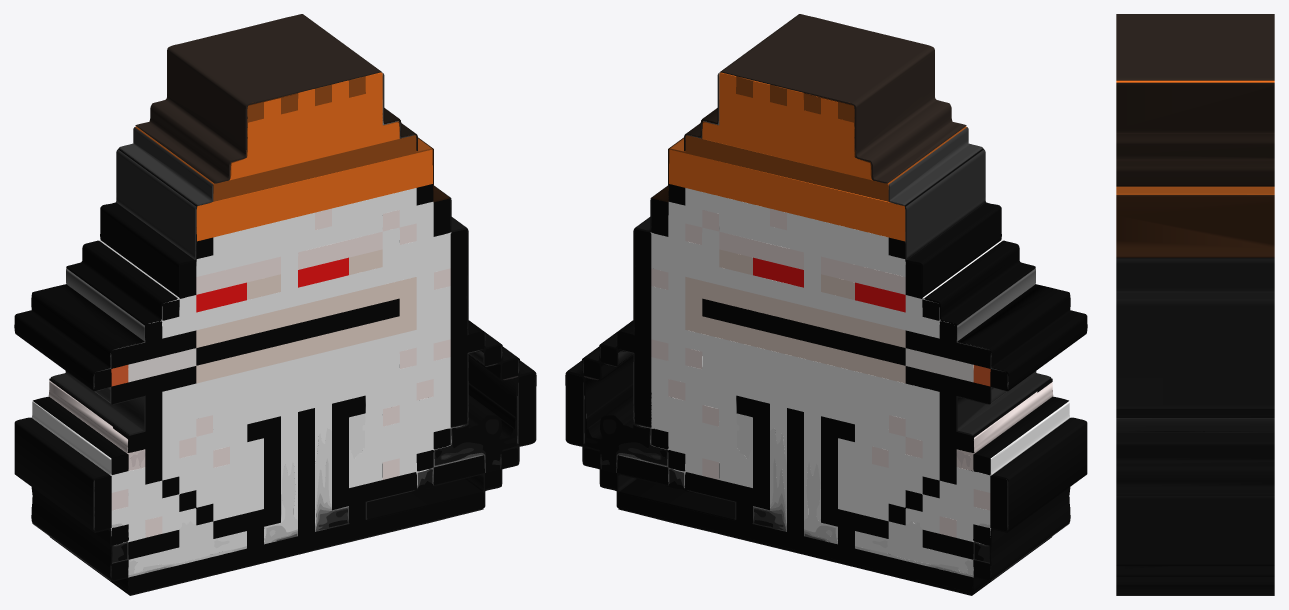
The model's file is Toadz_4986.glb.
3 renders of one model, left to right at view 1: azimuth 30°, elevation 25°; view 2: azimuth 150°, elevation 25°; view 3: azimuth 270°, elevation 25°, orthographic.
Visible parts, largest first — view 1: Curve; view 2: Curve; view 3: Curve.
Boxes of the visible parts, x1=… form: Curve: x1=14, y1=14, x2=536, y2=595; Curve: x1=565, y1=14, x2=1087, y2=595; Curve: x1=1116, y1=14, x2=1274, y2=595.
Size of the model in its own units: 3.25 by 3.25 by 1.
